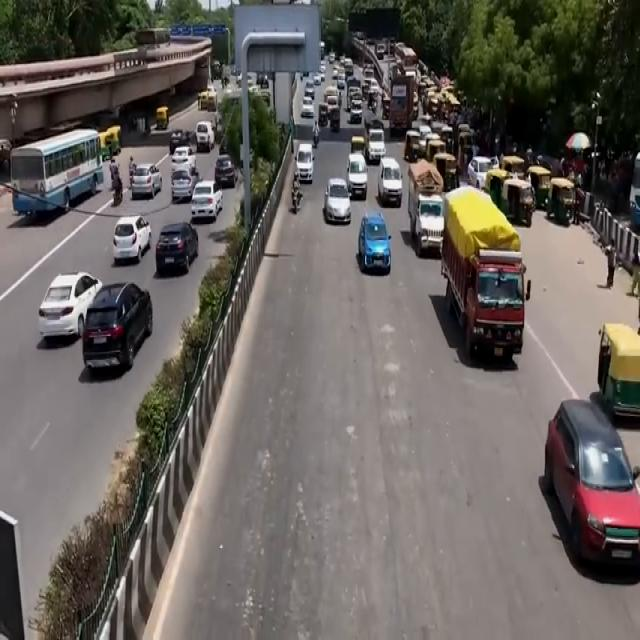BUS: (11, 130, 105, 224), (387, 73, 419, 136)
TRUCK: (444, 204, 528, 364), (410, 163, 444, 253)
